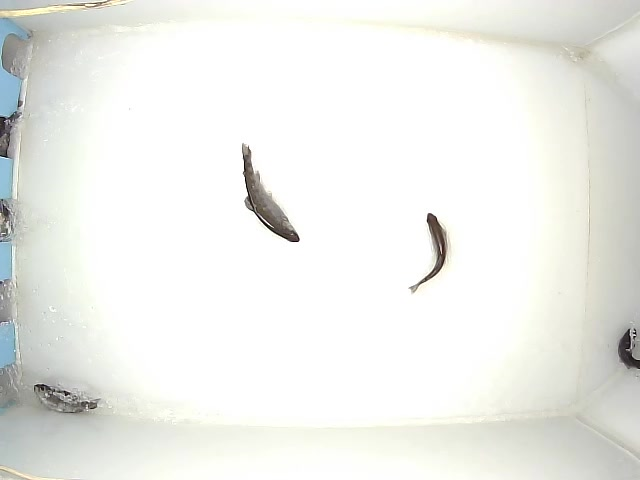fish: (241, 142, 300, 243), (408, 212, 448, 294), (33, 384, 101, 413), (618, 328, 640, 370)
